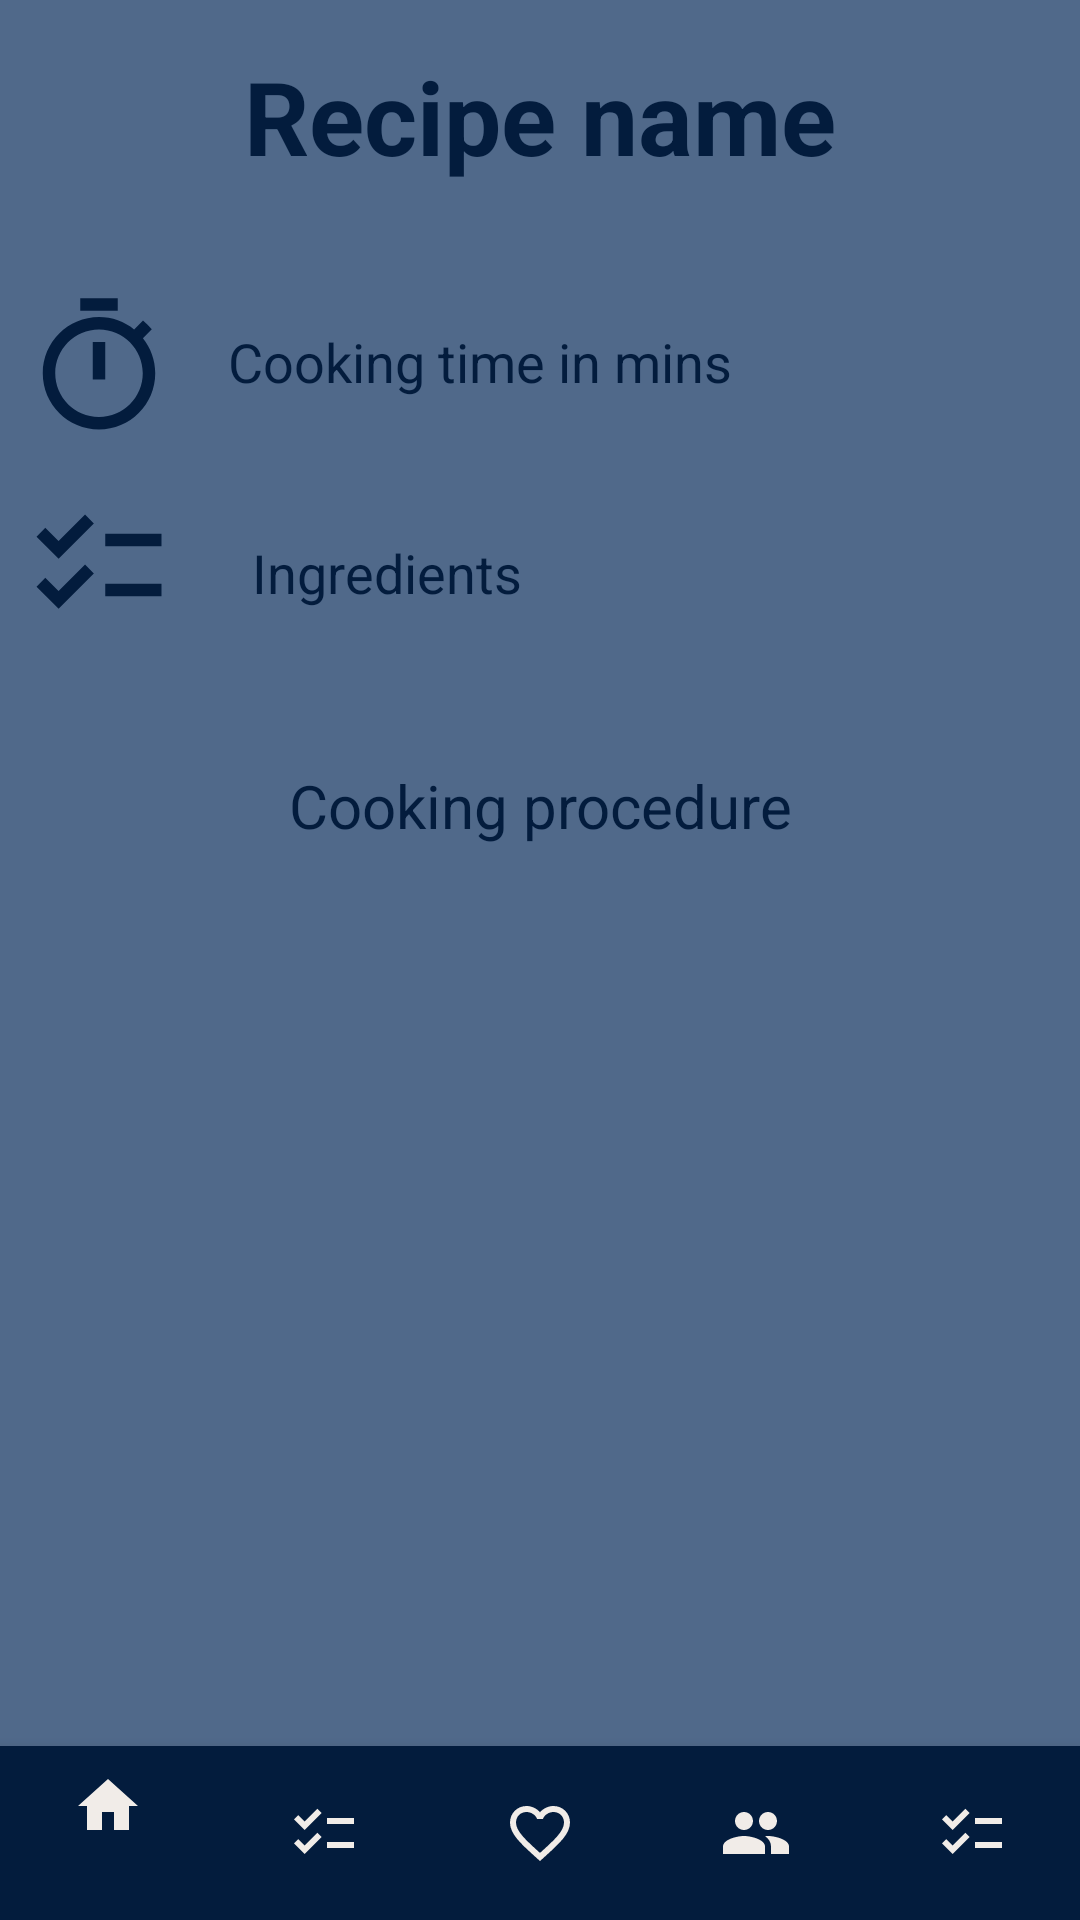

Named icons in this screenshot (1080px×1920px) and their bounding boxes, (x1, y1, x2, y2):
checklist: (37, 515, 162, 609)
timer: (43, 298, 155, 430)
